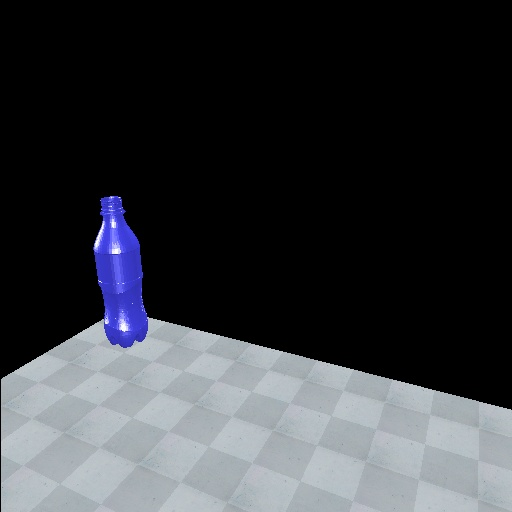bottle: (90, 193, 152, 352)
